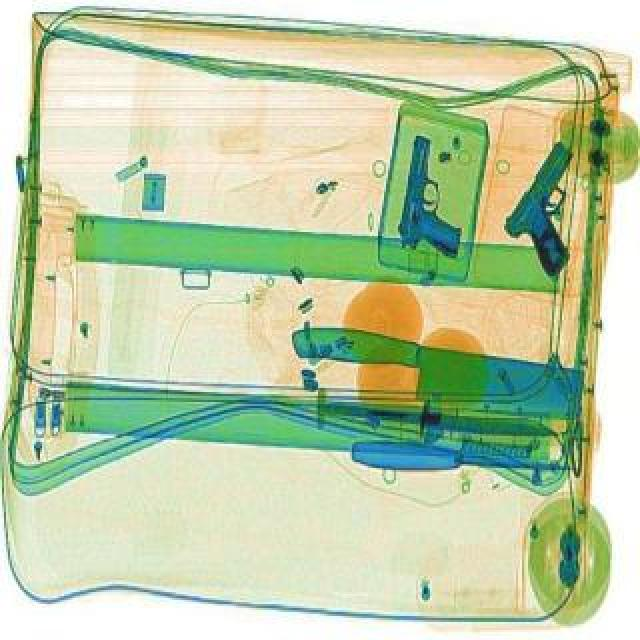gun: (492, 142, 626, 284), (394, 138, 478, 266)
knife: (286, 326, 590, 430), (322, 402, 562, 448), (352, 442, 578, 484)
